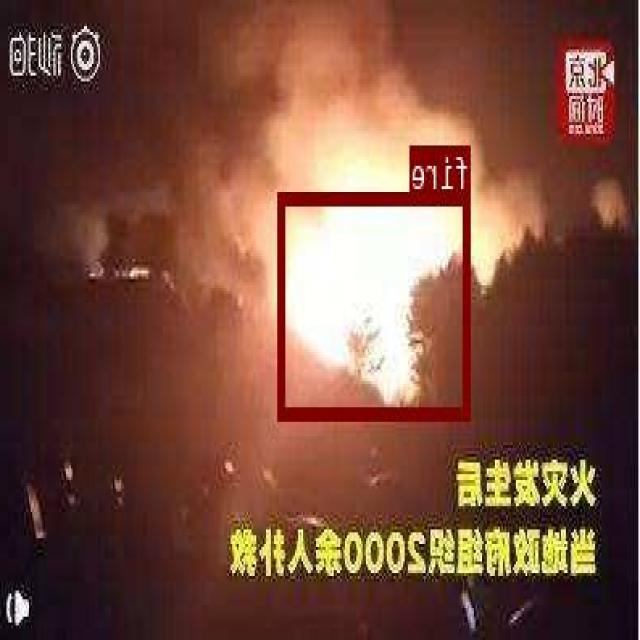fire: (279, 190, 471, 418)
